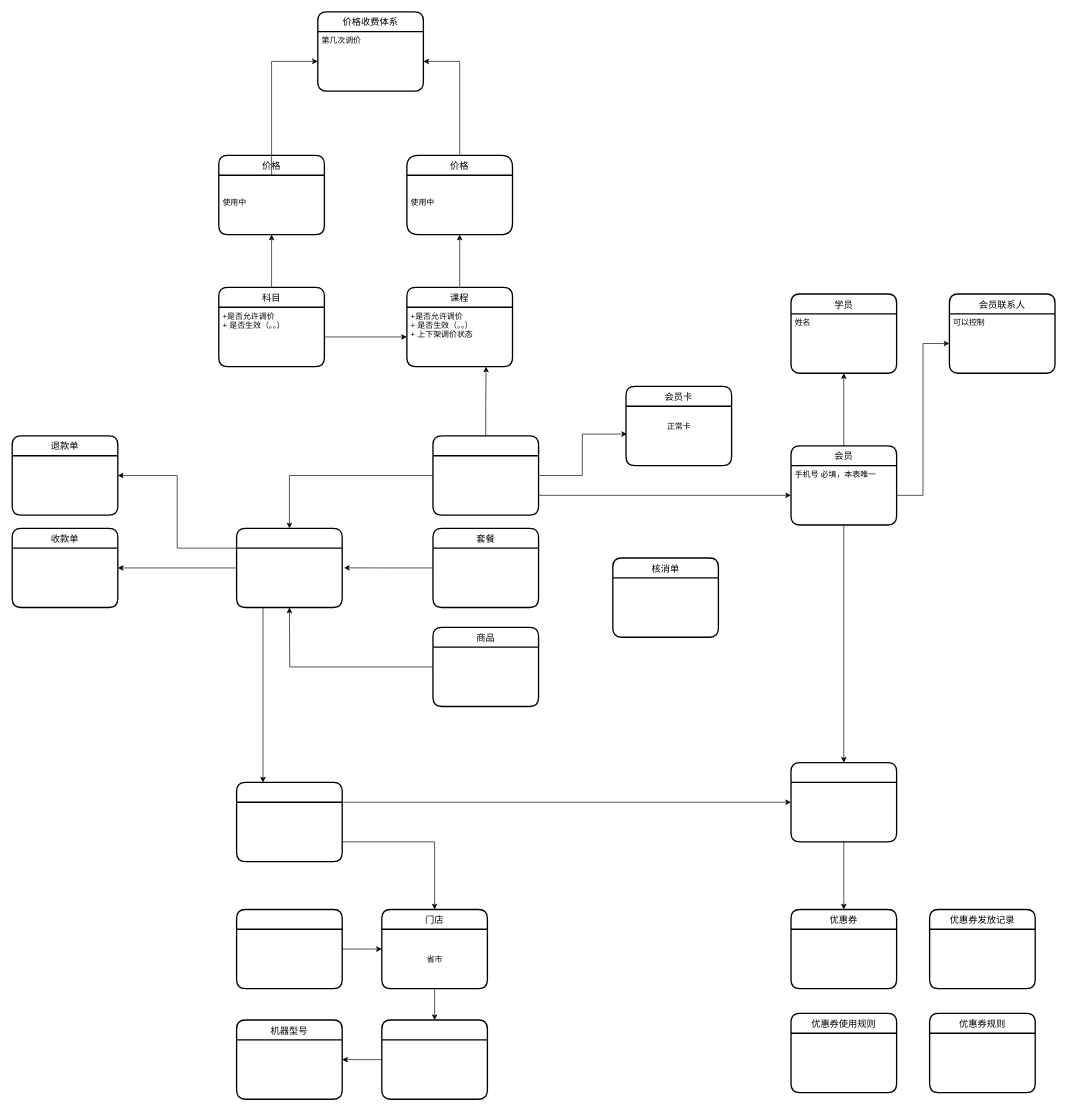
This 1067x1111 diagram has some shape labels left out. The shapes that lost their labels are listed below. From the top down, each one's centre as x and y in pixels, then its label:
At pixel 485 475: "会员权益卡".
At pixel 289 567: "订单".
At pixel 289 821: "系统人员".
At pixel 843 802: "会员优惠券".
At pixel 289 948: "公司".
At pixel 434 1059: "门店机器".
